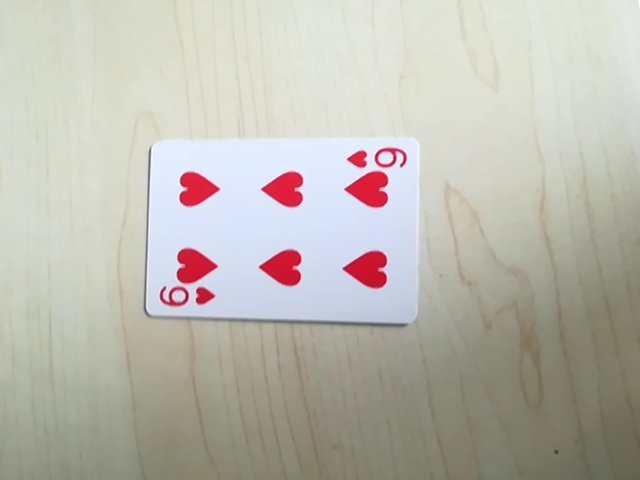hx 6: (343, 140, 409, 173), (156, 285, 217, 316)
